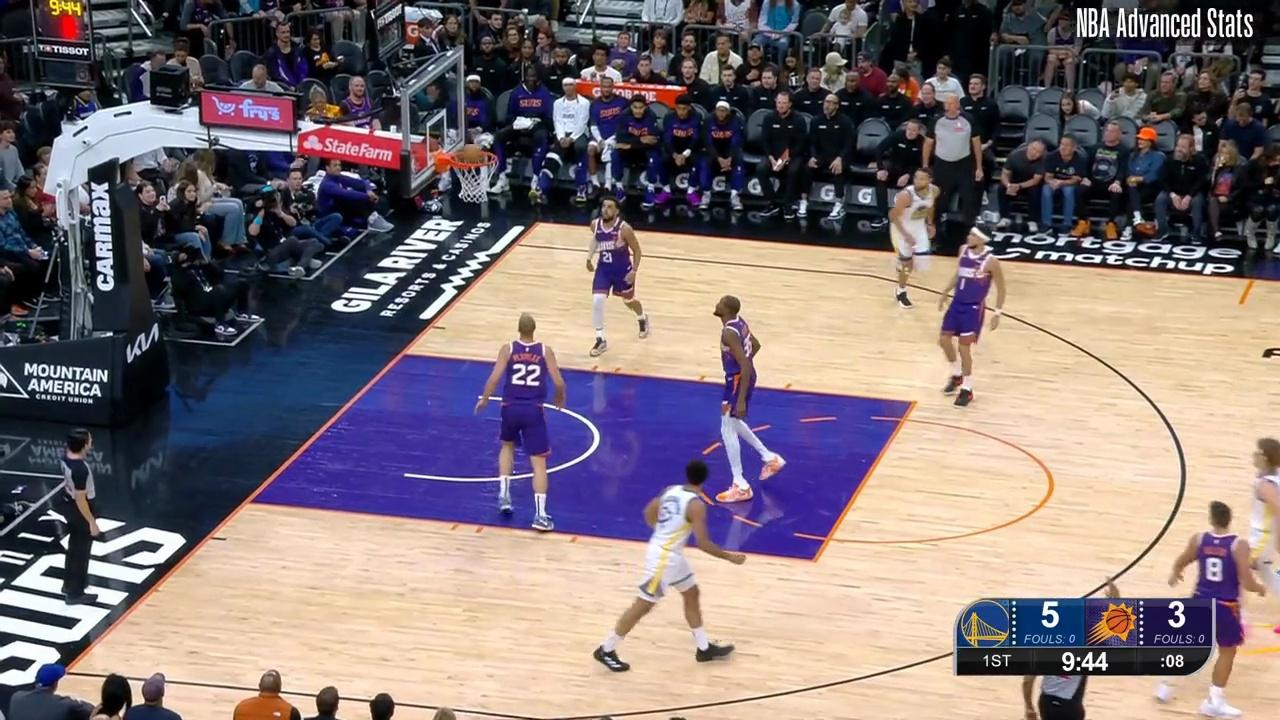basketball: (456, 142, 486, 167)
